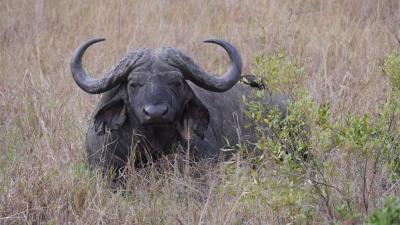buffalo: (71, 38, 309, 179)
